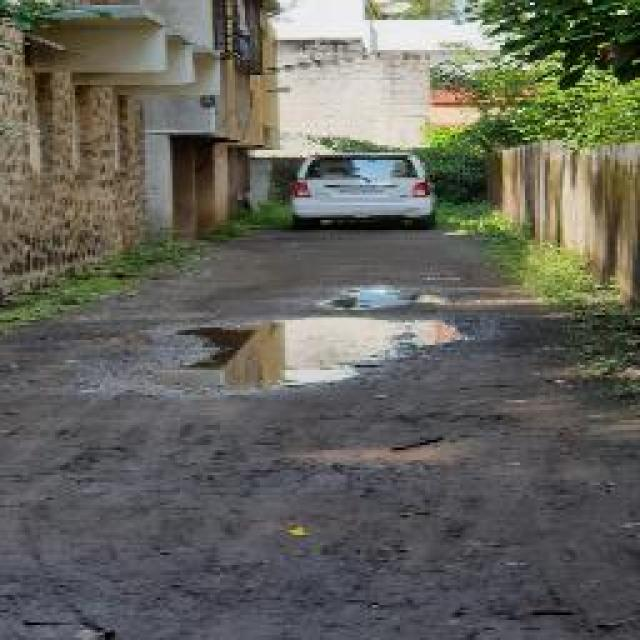stagnation: (181, 314, 476, 422), (304, 272, 442, 310)
